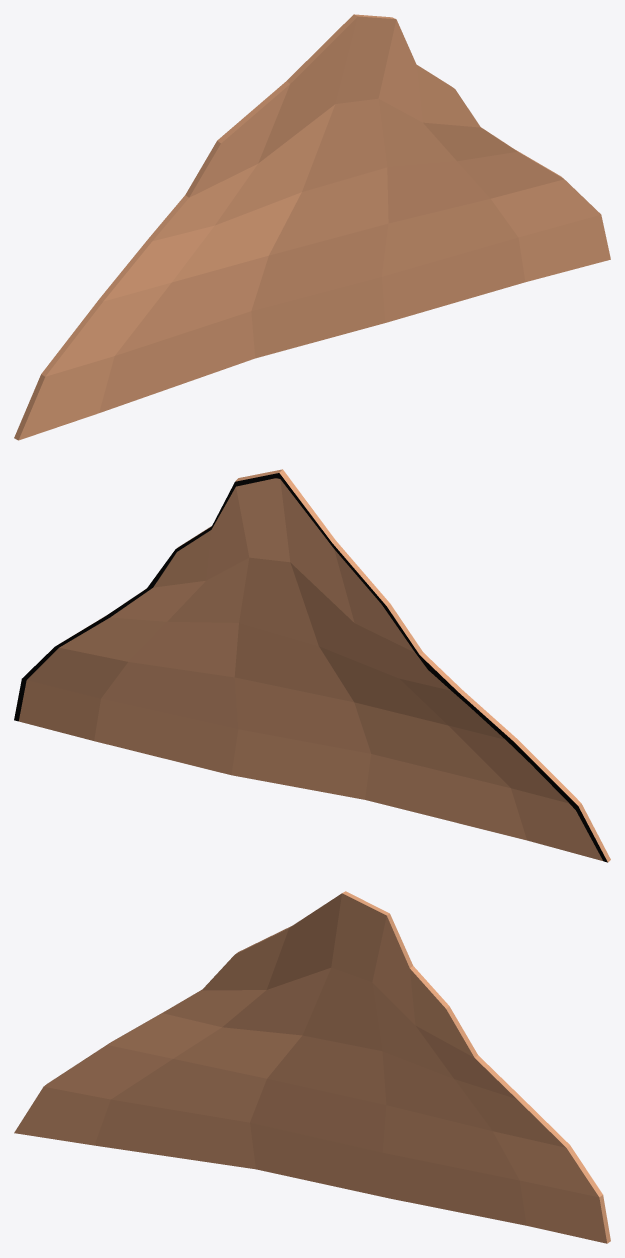
Rendered from CardboardMountain02.fbx.
3 views of the same model, one above another, from view 1: azimuth 30°, elevation 25°; view 2: azimuth 150°, elevation 25°; view 3: azimuth 330°, elevation 25° (orthographic). The views are drawn at different scales.
Visible parts, largest first — view 1: Cube.004; view 2: Cube.004; view 3: Cube.004.
Part boxes in pixels (left/top/right/bottom): Cube.004: left=14, top=14, right=610, bottom=440; Cube.004: left=14, top=469, right=610, bottom=862; Cube.004: left=14, top=891, right=610, bottom=1243.
Size of the model in its own units: 4834 by 2533 by 347.
